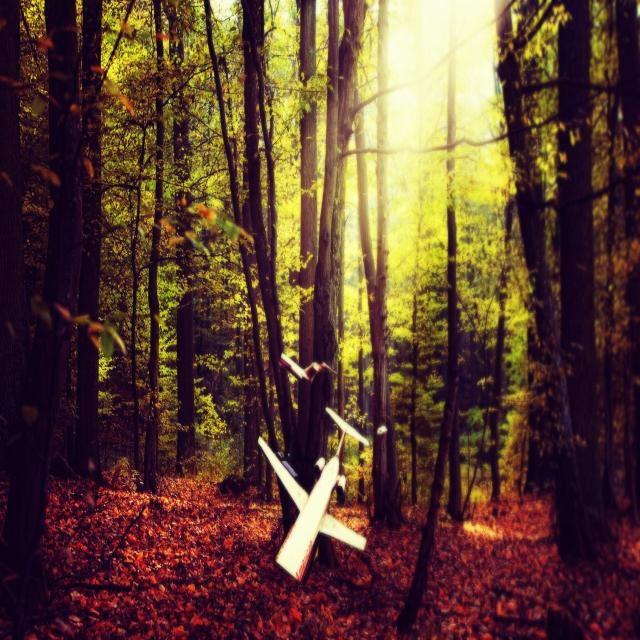airplane: (257, 406, 369, 585), (279, 351, 337, 384)
